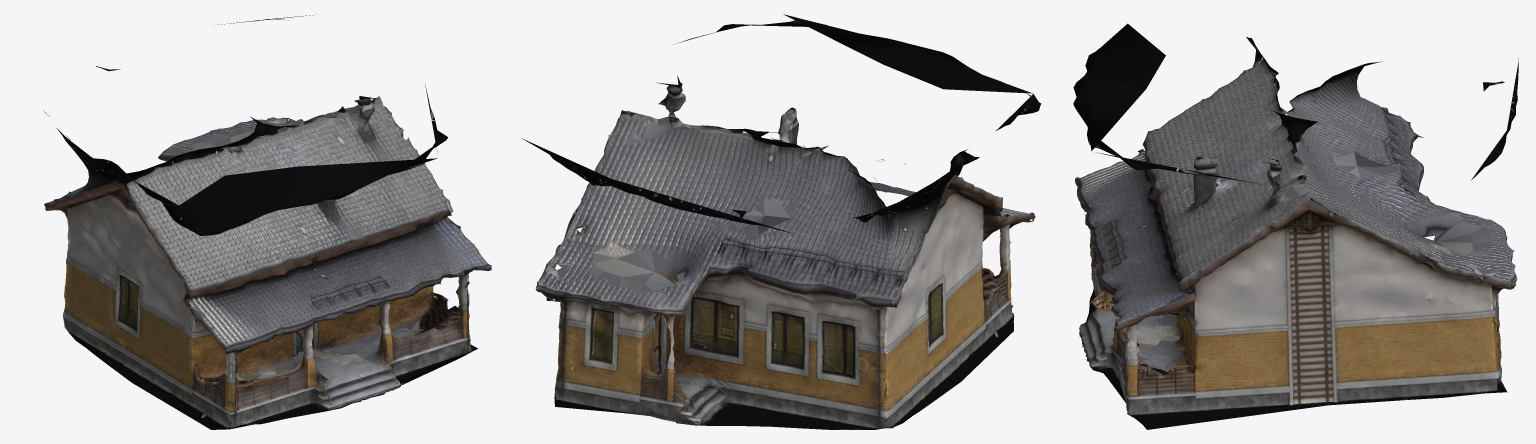
Rendered from 1440-1080-20-snow.glb.
The picture shows the model from 3 angles, left to right: view 1: azimuth 30°, elevation 25°; view 2: azimuth 150°, elevation 25°; view 3: azimuth 270°, elevation 25°; orthographic projection. The views are drawn at different scales.
Bounding box in the file's own units: 897 × 604 × 1000.
Materials: 1 (1 with a texture image).
